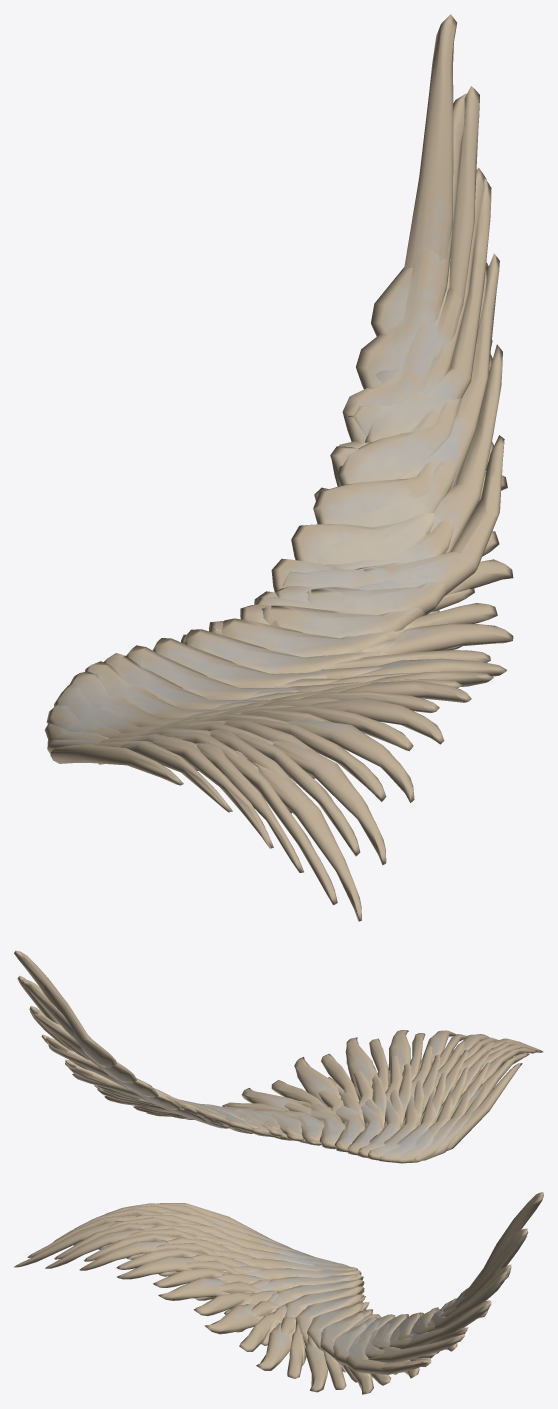
File: rightWing.obj
3 renders of one model, top to bottom at view 1: azimuth 30°, elevation 25°; view 2: azimuth 150°, elevation 25°; view 3: azimuth 270°, elevation 25°, orthographic. The views are drawn at different scales.
Parts seen in each view (by area): view 1: wing_low_wing_low_0; view 2: wing_low_wing_low_0; view 3: wing_low_wing_low_0.
Boxes of the visible parts, x1,y1,x2,y2 form: wing_low_wing_low_0: [44, 14, 513, 921]; wing_low_wing_low_0: [14, 950, 543, 1163]; wing_low_wing_low_0: [14, 1192, 543, 1394].
Size of the model in its own units: 9.79 by 6.08 by 12.15.
Materials: 1 (1 with a texture image).
